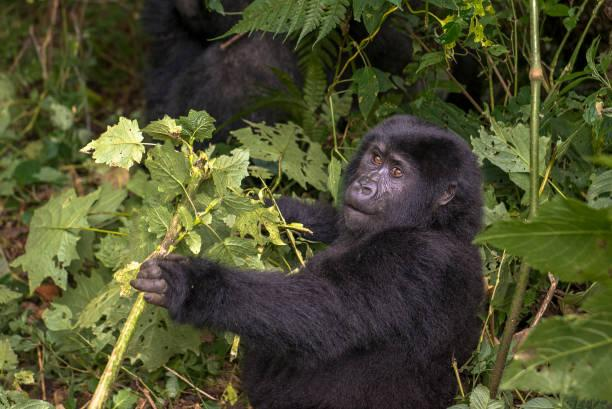goriile_montagne: (247, 99, 491, 409)
